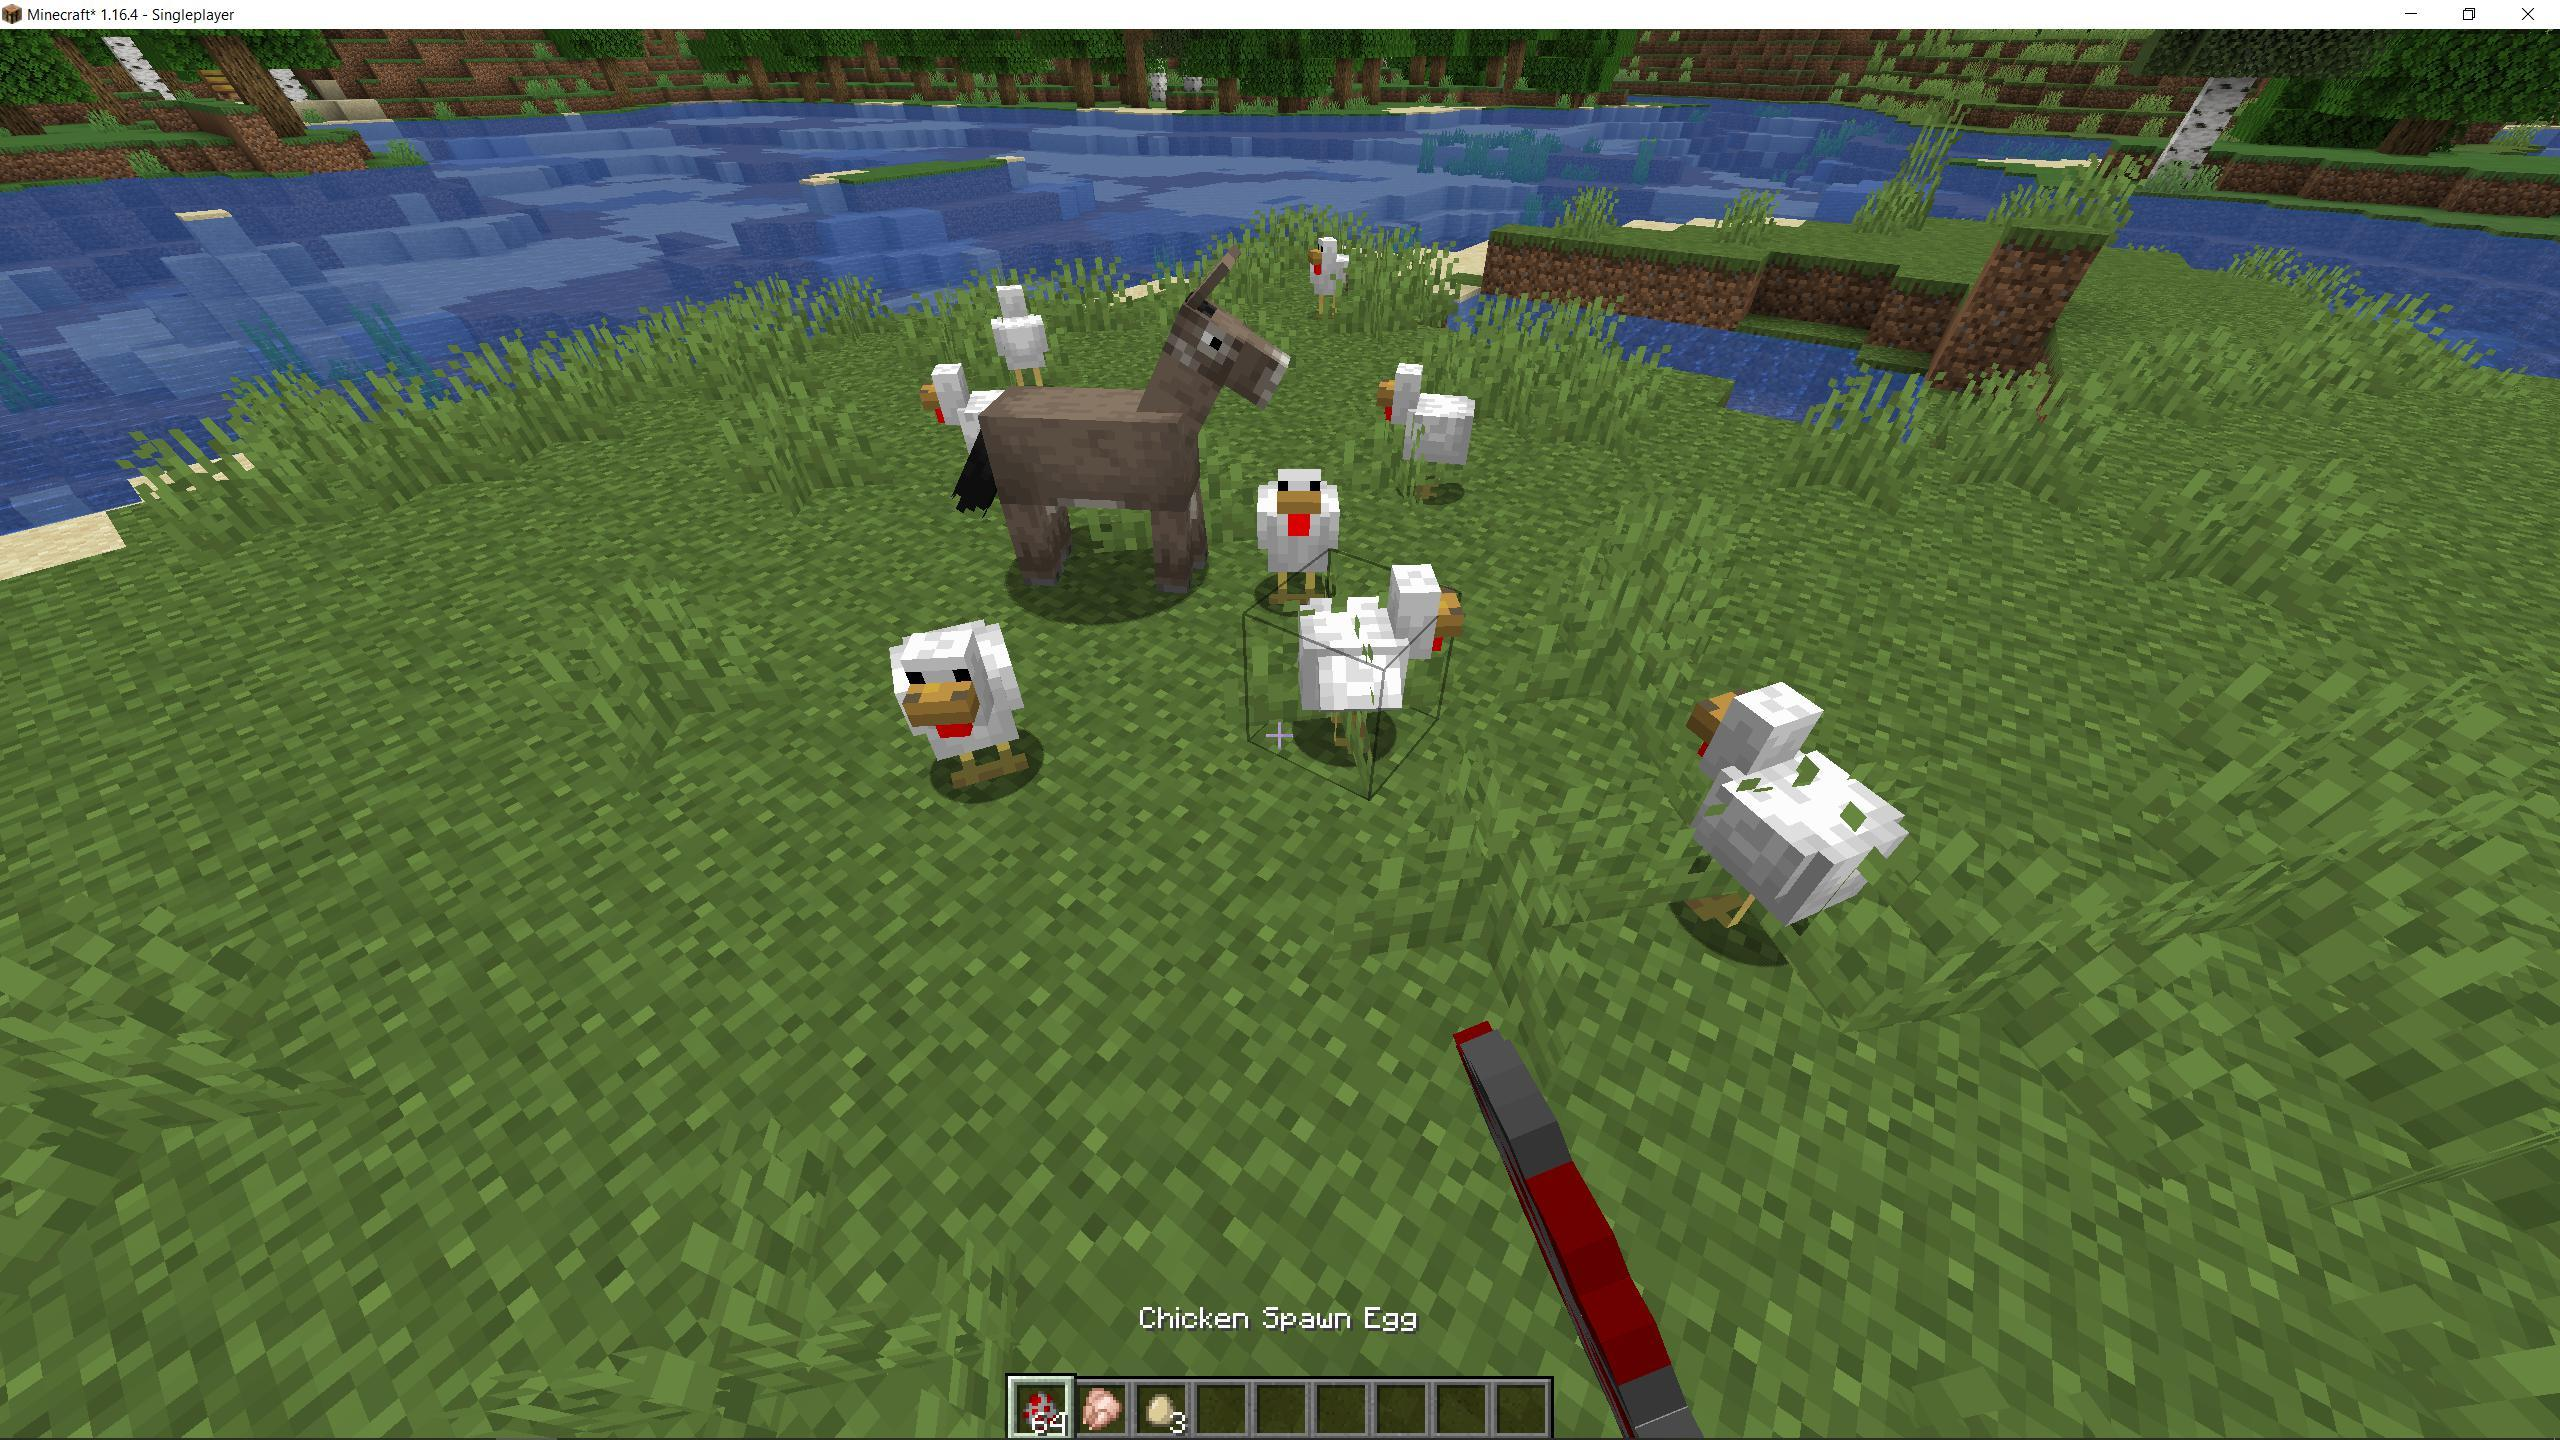chicken: (1674, 679, 1916, 964), (1296, 561, 1466, 770), (879, 614, 1043, 796), (1366, 353, 1487, 515), (1254, 464, 1345, 615), (921, 353, 1015, 462), (983, 278, 1055, 394), (1301, 234, 1359, 322)
